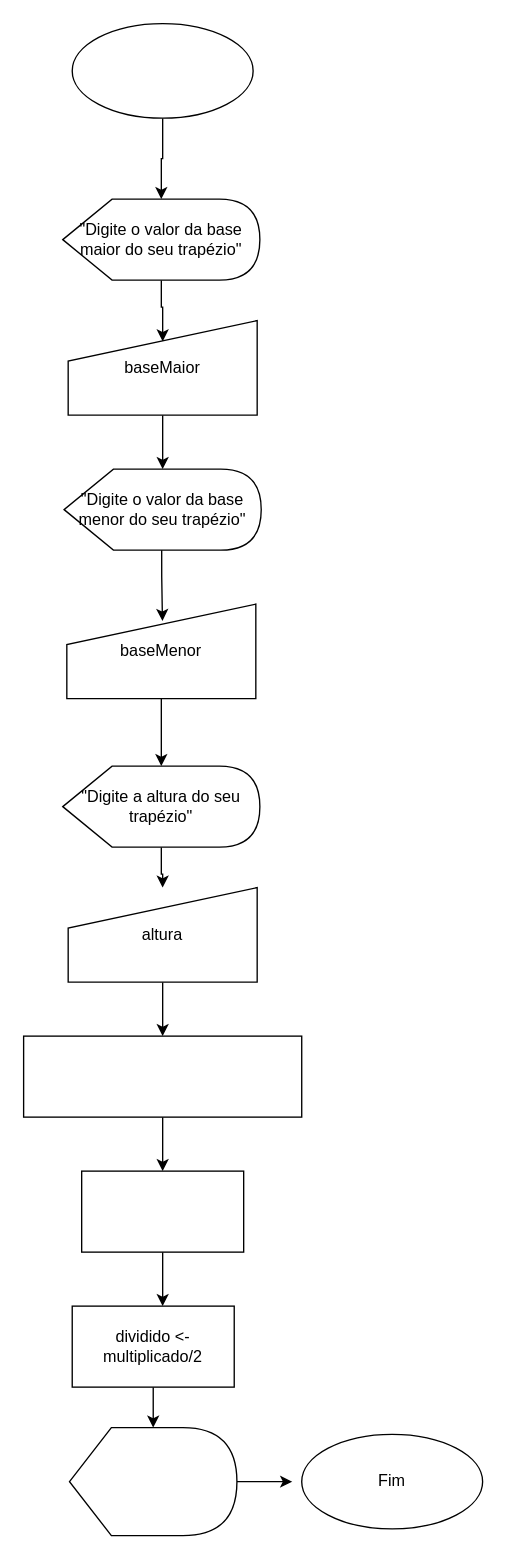
Image size: 506x1559. Some labels were removed from this diagram. Here are the shapes that lost their labels. From the top down, the centre of each, then its label:
(x=162, y=70): Início
(x=162, y=1076): somaBases <- baseMaior + baseMenor
(x=162, y=1211): multiplicado <- somaBases * altura
(x=152, y=1481): ""O valor da área do seu trápezio", dividido"
